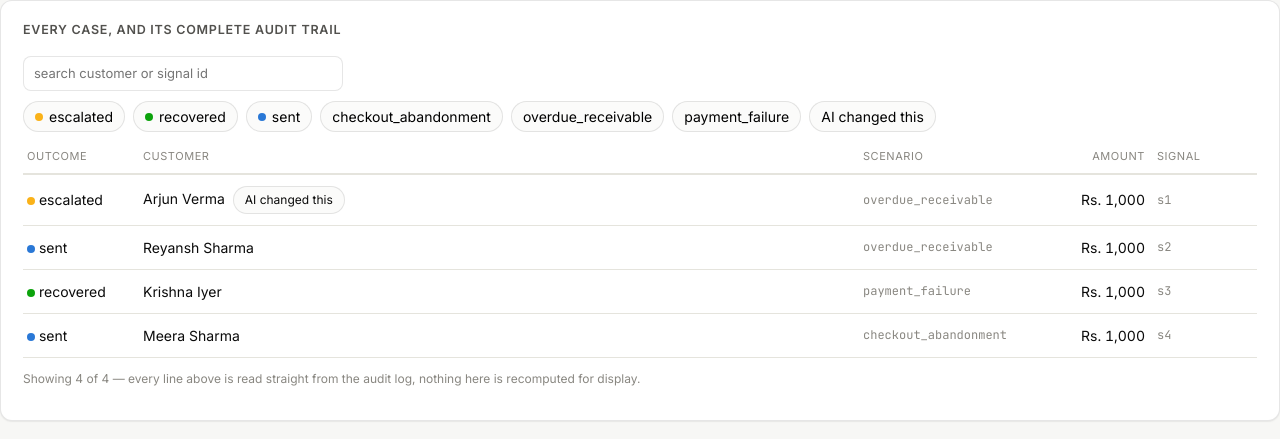
CaseList › filters by signal id
Step 1. Type "s3" into the search field named "search cases" → (183, 74), box top-left (23, 56), bottom-right (343, 91)
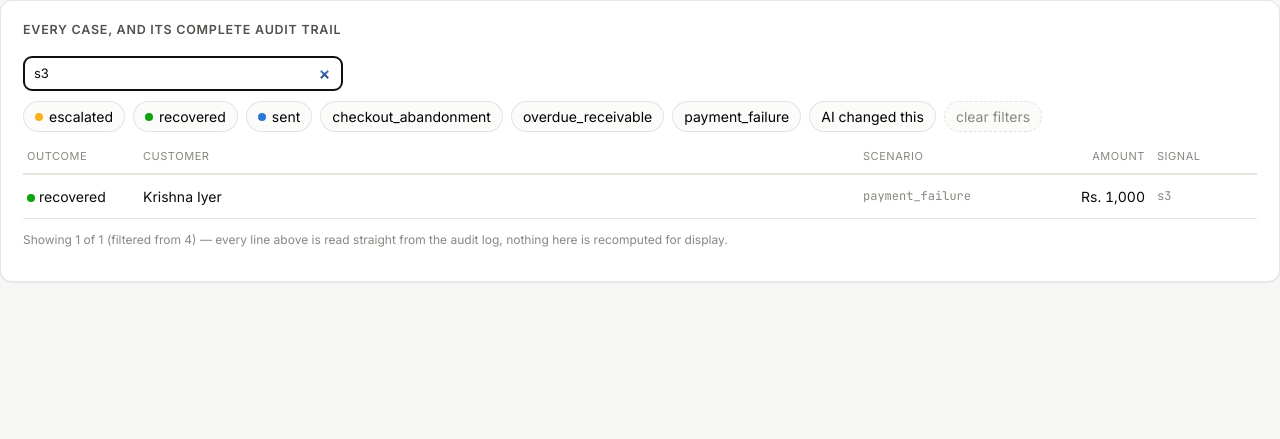
Expected: the text "Krishna Iyer" is shown, top-left (143, 188), bottom-right (222, 205)
Now the button "Arjun Verma" is gone
